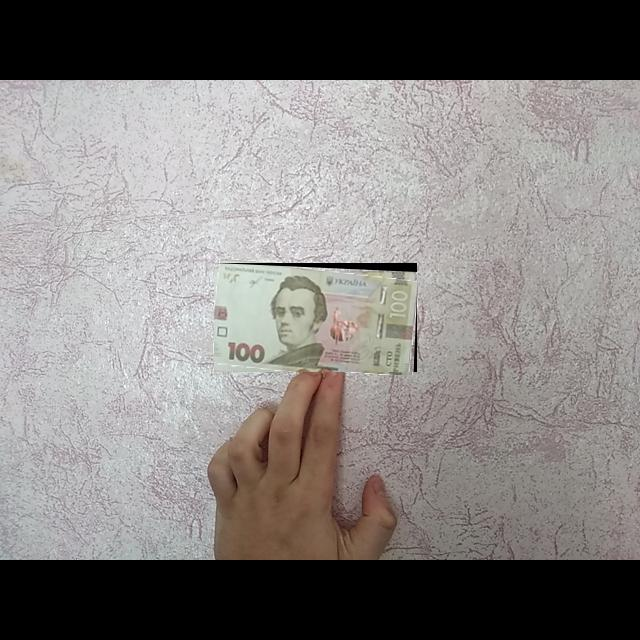100uah: (214, 263, 418, 373)
